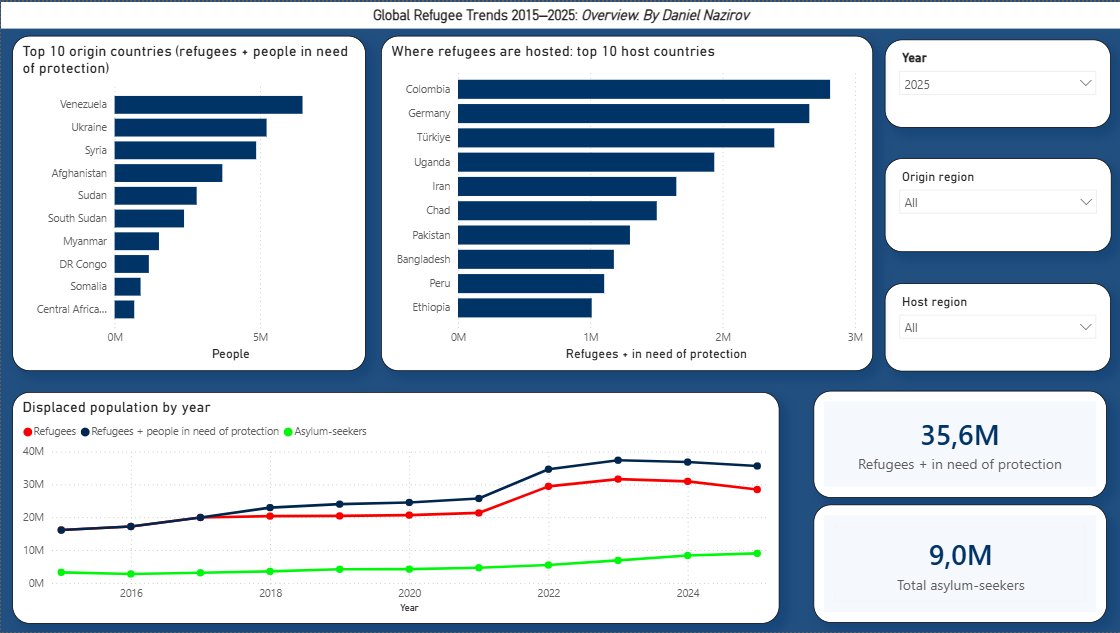

The dashboard page shown, as its layout file describes it:
{"tool":"powerbi","page":{"name":"Overview","canvas":[1280,720],"ordinal":0},"visuals":[{"type":"slicer","fields":{"Values":["Годы.Год"]},"box":[1010.1,42.3,258.7,100.8],"z":0},{"type":"slicer","fields":{"Values":["refugees_stock_ru.Регион_приема"]},"box":[1010.1,320.9,258.7,100.8],"z":1000},{"type":"slicer","fields":{"Values":["refugees_stock_ru.Регион_происхождения"]},"box":[1009.8,178.3,259.4,107.5],"z":2000},{"type":"cardVisual","fields":{"Data":["refugees_stock_ru.Беженцы и нуждающиеся в защите"]},"box":[928.3,444.7,335.4,122.3],"z":4000},{"type":"cardVisual","fields":{"Data":["refugees_stock_ru.Всего ищущих убежище"]},"box":[928.3,574.4,335.4,135.3],"z":5000},{"type":"clusteredBarChart","title":"Top 10 origin countries (refugees + people in need of protection)","fields":{"Category":["refugees_stock_ru.Страна_происхождения"],"Y":["refugees_stock_ru.Беженцы и нуждающиеся в защите"]},"box":[13,38.9,403.9,383.6],"z":6000},{"type":"lineChart","title":"Displaced population by year","fields":{"Category":["Годы.Год"],"Y":["refugees_stock_ru.Всего беженцев","refugees_stock_ru.Беженцы и нуждающиеся в защите","refugees_stock_ru.Всего ищущих убежище"]},"box":[12.4,445.3,876.4,265],"z":7000},{"type":"textbox","box":[0,0,1280,30],"z":8000},{"type":"clusteredBarChart","title":"Where refugees are hosted: top 10 host countries","fields":{"Category":["refugees_stock.Asylum_country"],"Y":["refugees_stock.Refugees and people in need of protection"]},"box":[434.1,38.6,562.6,383.2],"z":9000}]}

Visuals, with their boxes in screenshot pixels (x1, y1, x2, y2), scaled from the page's 1280x720 canvas onto the 1120x633 screenshot:
slicer - Годы.Год: bbox(884, 37, 1110, 126)
slicer - refugees_stock_ru.Регион_приема: bbox(884, 282, 1110, 371)
slicer - refugees_stock_ru.Регион_происхождения: bbox(884, 157, 1111, 251)
cardVisual - refugees_stock_ru.Беженцы и нуждающиеся в защите: bbox(812, 391, 1106, 498)
cardVisual - refugees_stock_ru.Всего ищущих убежище: bbox(812, 505, 1106, 624)
"Top 10 origin countries (refugees + people in need of protection)" clusteredBarChart: bbox(11, 34, 365, 371)
"Displaced population by year" lineChart: bbox(11, 391, 778, 624)
textbox: bbox(0, 0, 1119, 26)
"Where refugees are hosted: top 10 host countries" clusteredBarChart: bbox(380, 34, 872, 371)
